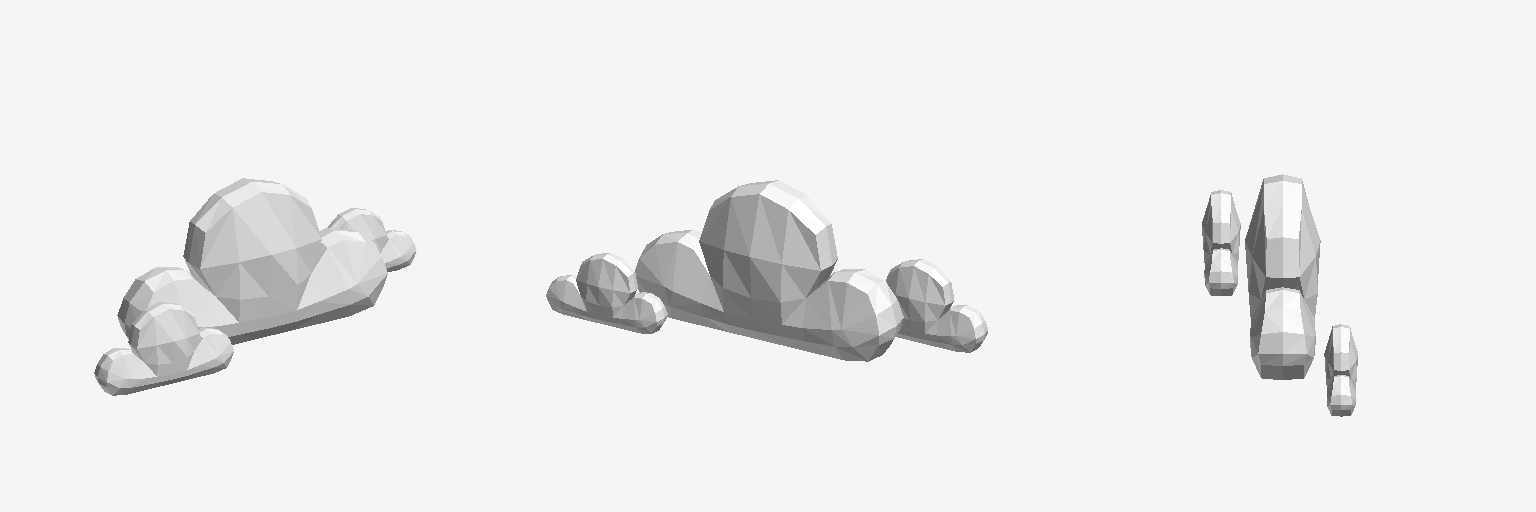
File: cloud_02.obj
The picture shows the model from 3 angles: view 1: azimuth 30°, elevation 25°; view 2: azimuth 150°, elevation 25°; view 3: azimuth 270°, elevation 25°; orthographic projection.
Parts seen in each view (by area): view 1: clouds_01_Plane; view 2: clouds_01_Plane; view 3: clouds_01_Plane.
Part boxes in pixels (left/top/right/bottom): clouds_01_Plane: left=94, top=178, right=416, bottom=395; clouds_01_Plane: left=546, top=180, right=987, bottom=361; clouds_01_Plane: left=1202, top=174, right=1357, bottom=416.
Size of the model in its own units: 530 by 200 by 192.